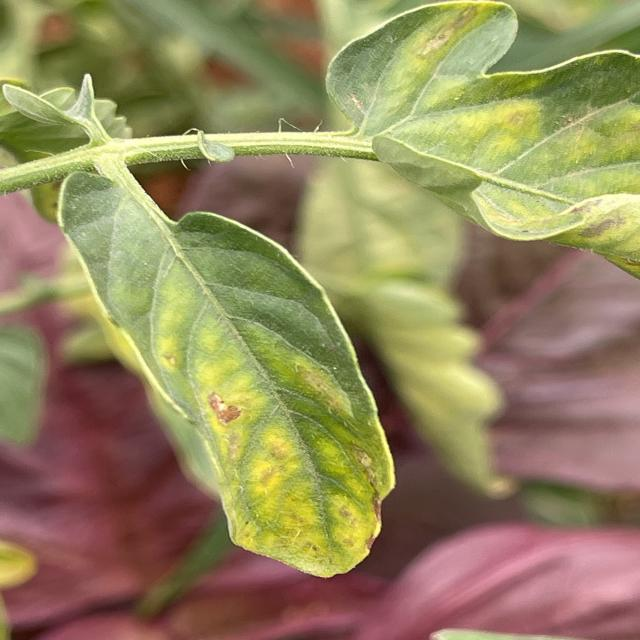tomato_early blight: (59, 172, 394, 578), (326, 1, 640, 270)
